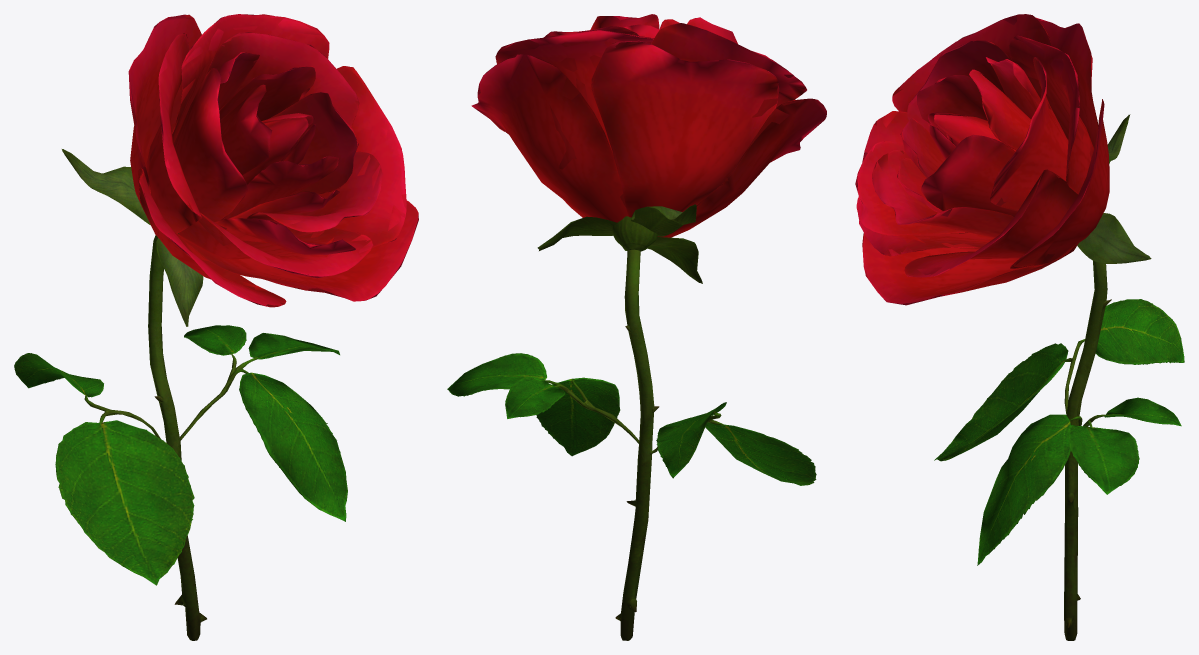
The model's file is Rose.fbx.
3 views of the same model, side by side, from view 1: azimuth 30°, elevation 25°; view 2: azimuth 150°, elevation 25°; view 3: azimuth 270°, elevation 25° (orthographic). The views are drawn at different scales.
Parts seen in each view (by area): view 1: root; view 2: root; view 3: root.
Boxes of the visible parts, x1,y1,x2,y2 form: root: (14, 14, 418, 640); root: (447, 14, 826, 640); root: (855, 14, 1184, 640).
Size of the model in its own units: 0.2837 by 0.5121 by 0.2517.
